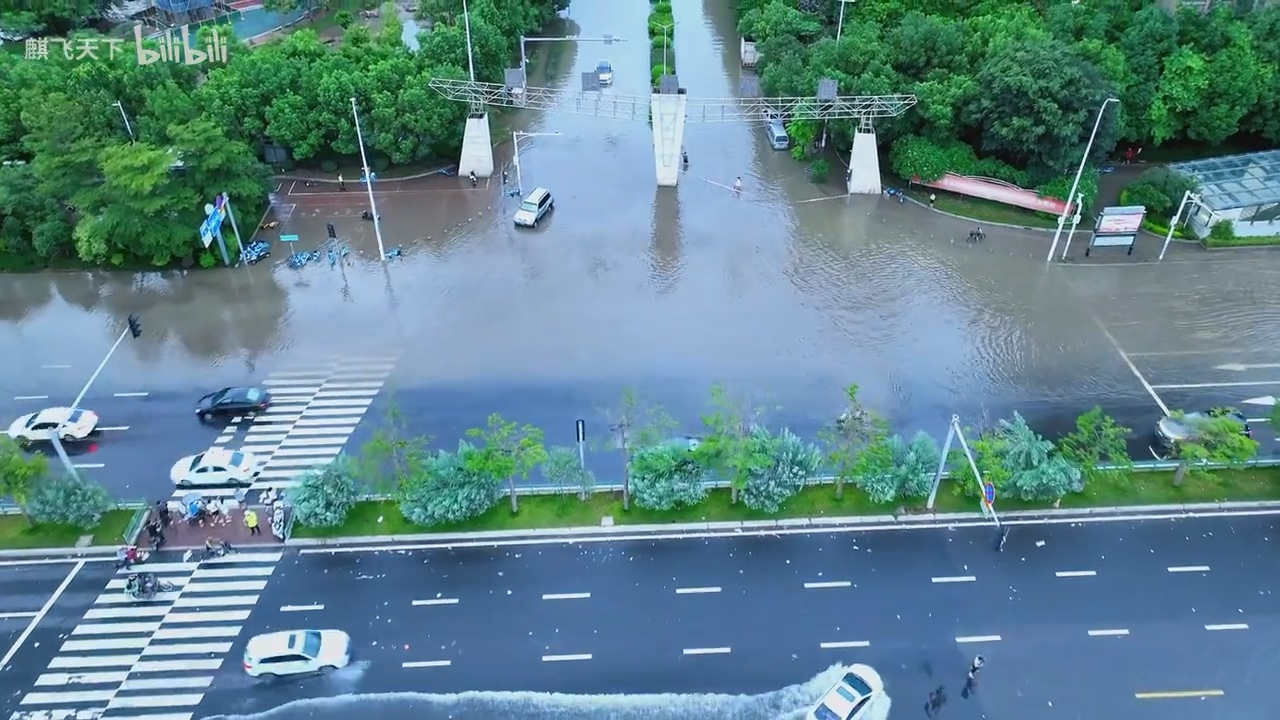puddle: (12, 247, 1280, 399)
